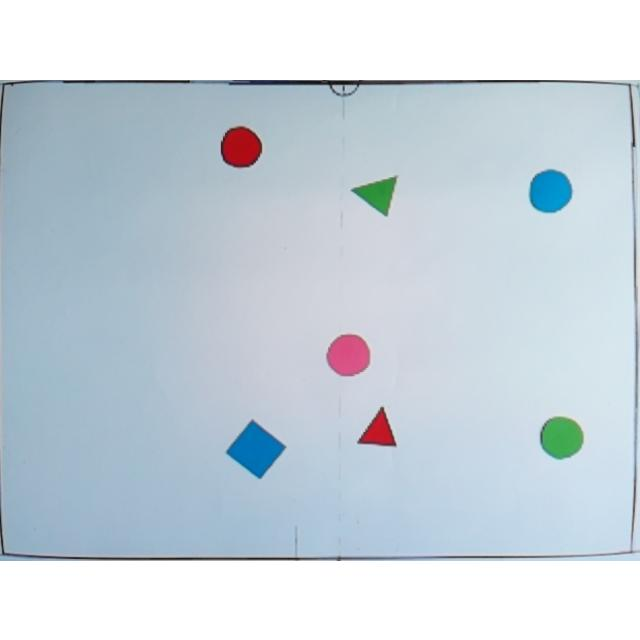blueCircle: (530, 168, 572, 212)
blueSquare: (226, 417, 286, 477)
greenCircle: (540, 415, 584, 459)
greenTriangle: (352, 172, 398, 216)
pinkCircle: (327, 332, 371, 376)
redCircle: (222, 126, 262, 166)
redTriangle: (356, 405, 399, 447)
